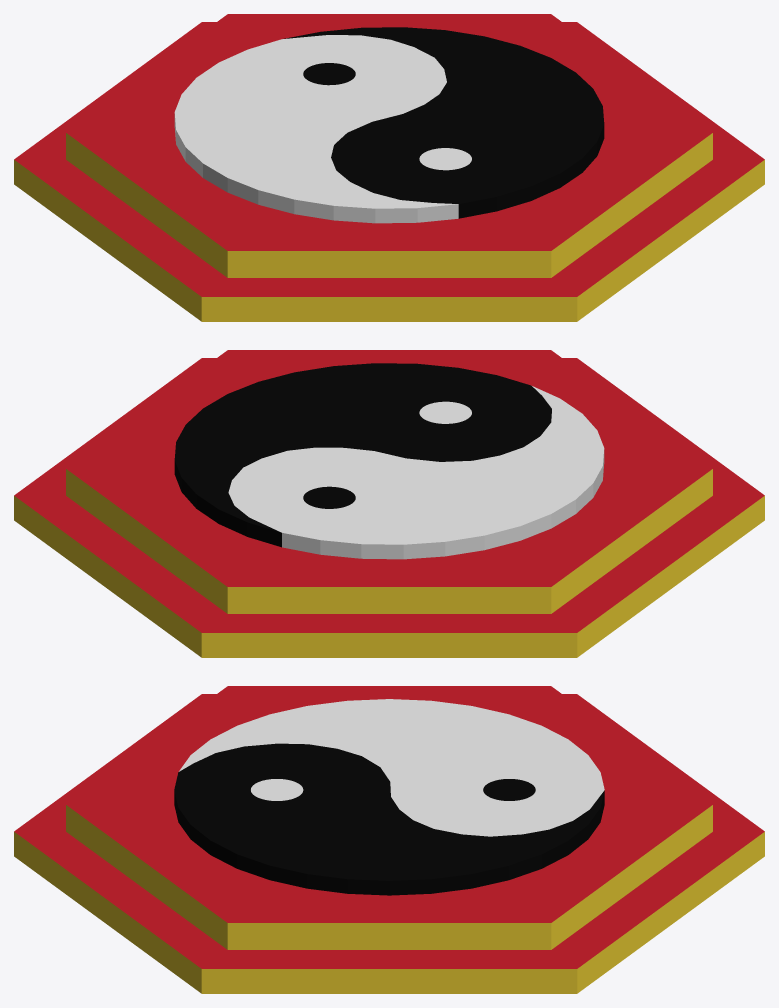
The model's file is Raven_Yin_Color.fbx.
3 views of the same model, one above another, from view 1: azimuth 30°, elevation 25°; view 2: azimuth 150°, elevation 25°; view 3: azimuth 270°, elevation 25° (orthographic).
Parts seen in each view (by area): view 1: Cylinder, Circle; view 2: Cylinder, Circle; view 3: Cylinder, Circle.
Boxes of the visible parts, x1,y1,x2,y2 form: Cylinder: [14, 14, 764, 321]; Circle: [174, 27, 604, 223]; Cylinder: [14, 350, 764, 657]; Circle: [174, 363, 604, 559]; Cylinder: [14, 686, 764, 993]; Circle: [174, 699, 604, 895].
Size of the model in its own units: 153 by 17.19 by 176.
